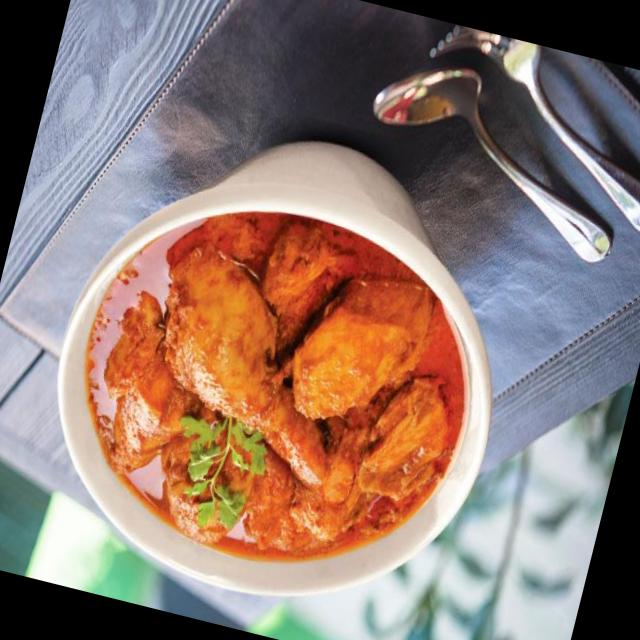chicken: (19, 169, 508, 632)
